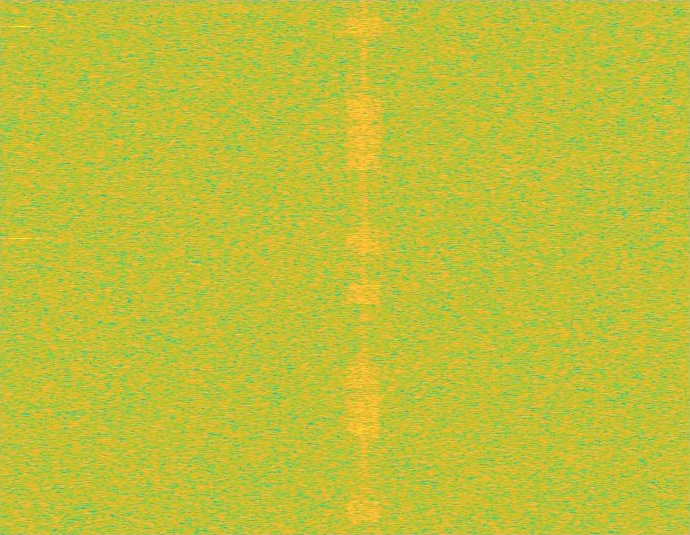DSSS: (360, 0, 368, 534)
LTE: (347, 0, 381, 534)
Radar: (14, 0, 28, 534)
